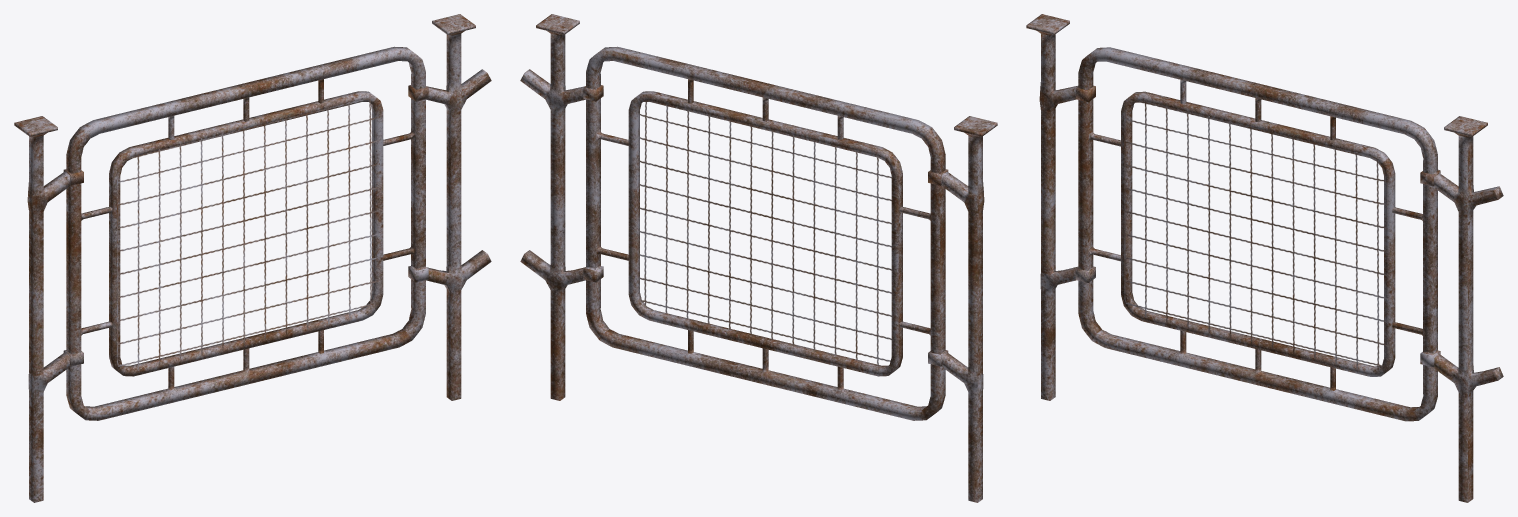
The model's file is rusty_fence.glb.
The picture shows the model from 3 angles, left to right: view 1: azimuth 30°, elevation 25°; view 2: azimuth 150°, elevation 25°; view 3: azimuth 330°, elevation 25°; orthographic projection.
Parts seen in each view (by area): view 1: Fence, FencePostStart; view 2: Fence, FencePostStart; view 3: Fence, FencePostStart.
Part boxes in pixels (x1=…): Fence: x1=63, y1=14, x2=491, y2=420; FencePostStart: x1=14, y1=116, x2=70, y2=502; Fence: x1=520, y1=14, x2=948, y2=420; FencePostStart: x1=941, y1=116, x2=997, y2=502; Fence: x1=1075, y1=47, x2=1503, y2=502; FencePostStart: x1=1026, y1=14, x2=1078, y2=400.
Size of the model in its own units: 1.21 by 0.9264 by 0.0701.
1 material, 1 textured.
